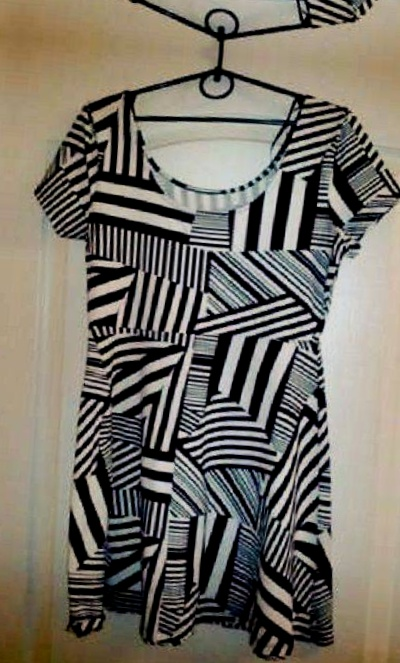Dress: (0, 52, 400, 663), (31, 0, 400, 55), (0, 19, 9, 639), (392, 86, 400, 663), (0, 0, 61, 22)
